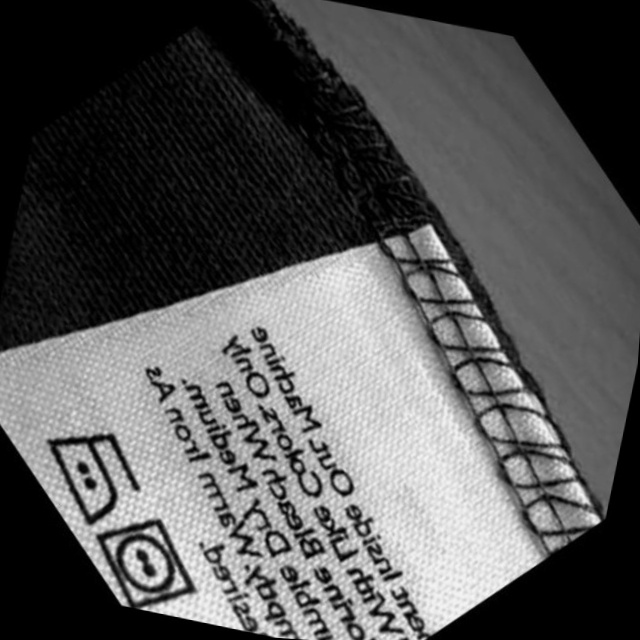iron_medium: (25, 417, 150, 532)
tumble_dry_medium: (80, 507, 208, 618)
